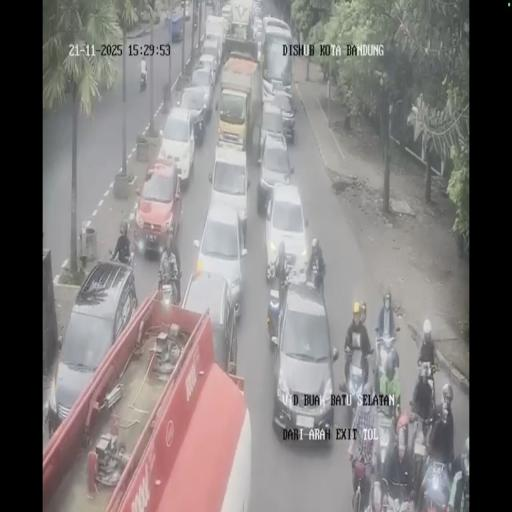3: (217, 56, 262, 158), (260, 16, 294, 96), (222, 34, 258, 68)
car: (49, 260, 140, 434), (271, 282, 336, 440), (178, 267, 238, 374), (133, 156, 183, 256), (203, 146, 249, 247), (258, 125, 296, 213), (177, 84, 212, 144), (273, 89, 294, 141), (200, 40, 221, 77), (251, 14, 264, 48), (221, 1, 232, 28), (184, 2, 190, 21)
truck: (348, 421, 377, 511), (414, 355, 440, 414), (375, 333, 398, 377), (158, 264, 180, 306), (306, 252, 326, 292), (140, 66, 147, 89)
